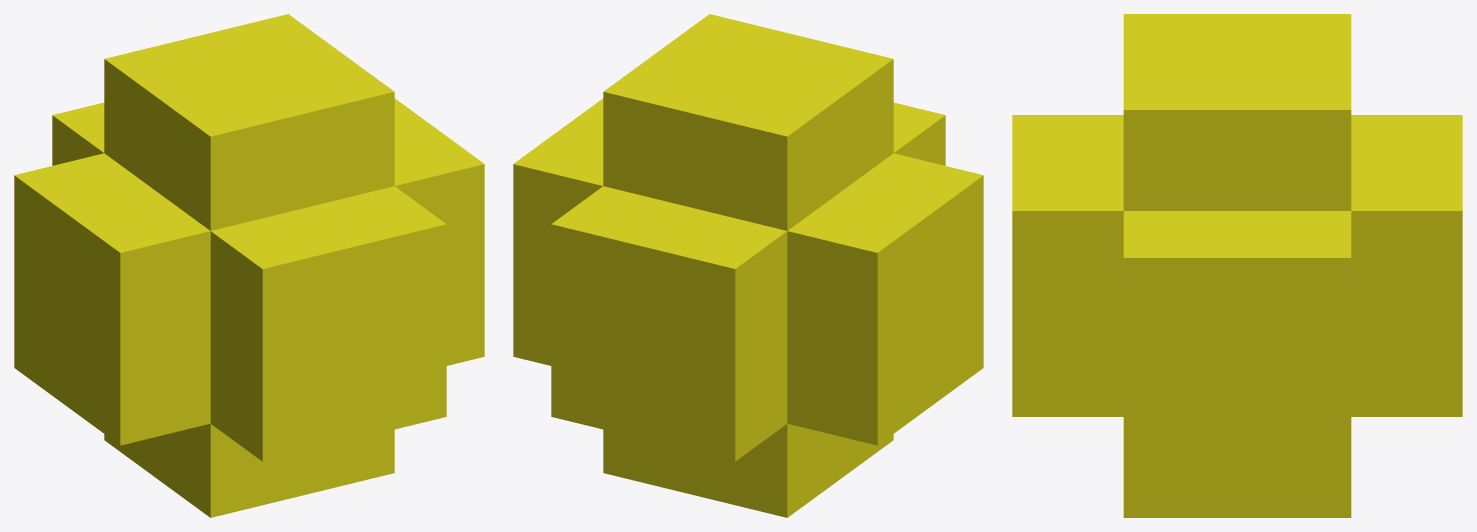
File: Boss_core_small.fbx
3 renders of one model, left to right at view 1: azimuth 30°, elevation 25°; view 2: azimuth 150°, elevation 25°; view 3: azimuth 270°, elevation 25°, orthographic. The views are drawn at different scales.
Visible parts, largest first — view 1: Boss_core_small79, Boss_core_small74, Boss_core_small13, Boss_core_small87, Boss_core_small57, Boss_core_small86, Boss_core_small31, Boss_core_small47, Boss_core_small76, Boss_core_small37, Boss_core_small61, Boss_core_small33 (+7 smaller); view 2: Boss_core_small28, Boss_core_small47, Boss_core_small76, Boss_core_small81, Boss_core_small82, Boss_core_small14, Boss_core_small34, Boss_core_small74, Boss_core_small13, Boss_core_small46, Boss_core_small9, Boss_core_small32 (+7 smaller); view 3: Boss_core_small33, Boss_core_small86, Boss_core_small32, Boss_core_small14, Boss_core_small31, Boss_core_small34, Boss_core_small38, Boss_core_small39, Boss_core_small46, Boss_core_small37, Boss_core_small25, Boss_core_small17 (+4 smaller).
Part boxes in pixels (x1,y1,x2,y2): Boss_core_small79: (210,208,356,366); Boss_core_small74: (66,191,210,350); Boss_core_small13: (156,75,304,230); Boss_core_small87: (210,326,356,461); Boss_core_small57: (66,308,210,445); Boss_core_small86: (247,52,394,208); Boss_core_small31: (301,186,446,344); Boss_core_small47: (104,36,249,190); Boss_core_small76: (14,153,156,310); Boss_core_small37: (352,318,446,439); Boss_core_small61: (156,423,300,517); Boss_core_small33: (394,124,484,267); Boss_core_small28: (641,208,787,367); Boss_core_small47: (693,75,841,230); Boss_core_small76: (787,192,931,350); Boss_core_small81: (787,309,931,445); Boss_core_small82: (641,329,787,461); Boss_core_small14: (603,52,749,207); Boss_core_small34: (551,186,695,343); Boss_core_small74: (840,153,983,312); Boss_core_small13: (751,36,893,192); Boss_core_small46: (551,318,645,439); Boss_core_small9: (697,423,839,517); Boss_core_small32: (513,125,603,267); Boss_core_small33: (1123,211,1239,363); Boss_core_small86: (1123,61,1239,210); Boss_core_small32: (1235,211,1351,363); Boss_core_small14: (1235,61,1351,210); Boss_core_small31: (1012,164,1123,315); Boss_core_small34: (1351,164,1462,315); Boss_core_small38: (1235,359,1351,463); Boss_core_small39: (1123,359,1239,463); Boss_core_small46: (1351,312,1462,416); Boss_core_small37: (1012,312,1123,416); Boss_core_small25: (1235,464,1351,517); Boss_core_small17: (1123,464,1239,517).
Bounding box in the file's own units: 97 × 97 × 97.
